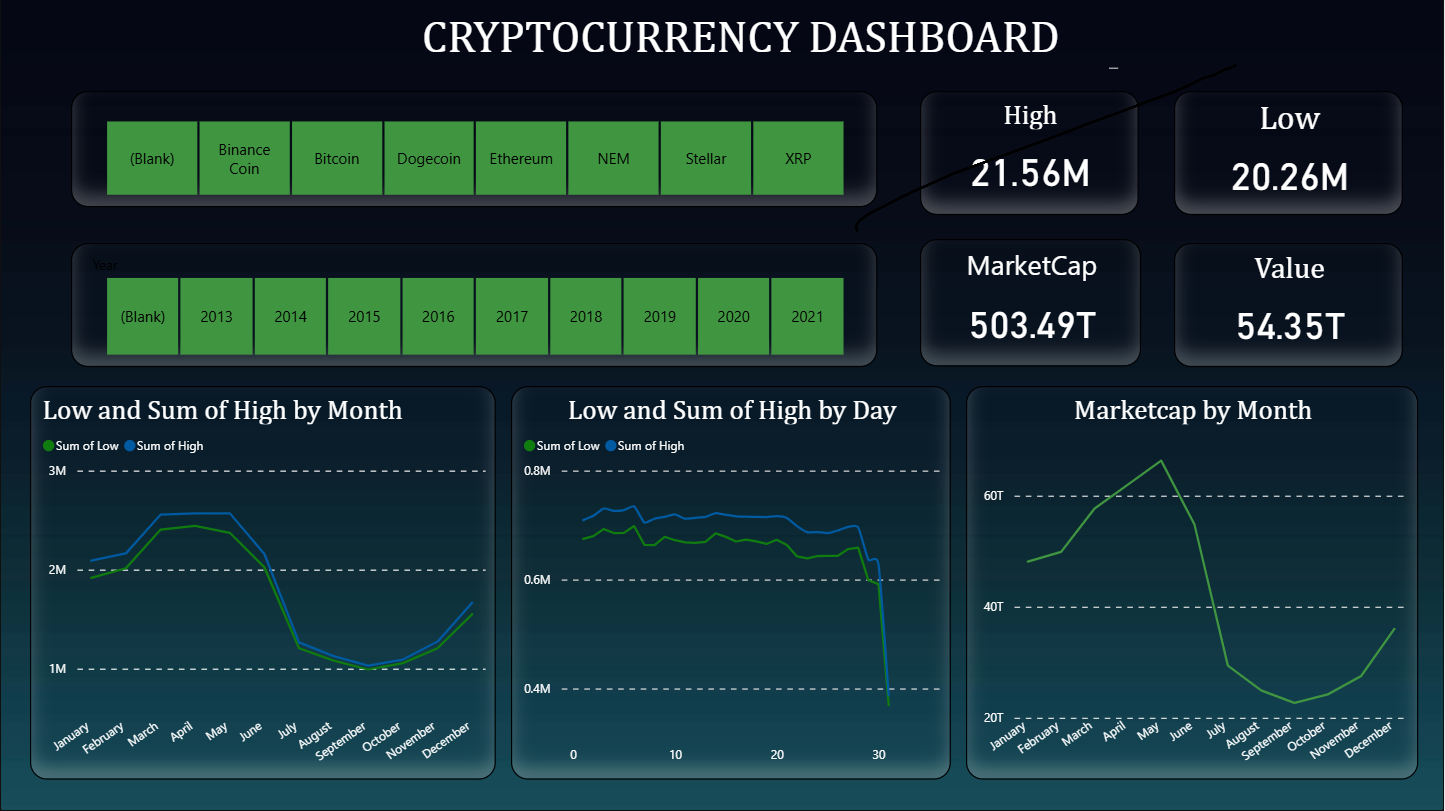

The page's visual inventory and layout, read from the dashboard file:
{"tool":"powerbi","page":{"name":"Page 1","canvas":[1280,720],"ordinal":0},"visuals":[{"type":"textbox","title":"CRYPTOCURRENCY DASHBOARD","box":[317.1,8.8,678.9,58.4],"z":0},{"type":"slicer","fields":{"Values":["CryptoData CSV.Name"]},"box":[63.2,81.7,714.9,103.1],"z":1000},{"type":"slicer","fields":{"Values":["CryptoData CSV.Date.Variation.Date Hierarchy.Year"]},"box":[63.2,215.9,714.9,109.9],"z":2000},{"type":"card","title":"High","fields":{"Values":["Sum(CryptoData_CSV.High)"]},"box":[816,81.7,193.6,109.9],"z":3000},{"type":"card","title":"Low","fields":{"Values":["Sum(CryptoData_CSV.Low)"]},"box":[1040.7,81.7,203.3,109.9],"z":4000},{"type":"card","title":"MarketCap","fields":{"Values":["Sum(CryptoData_CSV.Marketcap)"]},"box":[816,213,196.5,112.8],"z":5000},{"type":"card","title":"Value","fields":{"Values":["Sum(CryptoData_CSV.Volume)"]},"box":[1040.7,215.9,203.3,109.9],"z":6000},{"type":"lineChart","title":"Low and Sum of High by Month","fields":{"Category":["CryptoData CSV.Date.Variation.Date Hierarchy.Month"],"Y":["Sum(CryptoData CSV.Low)","Sum(CryptoData CSV.High)"]},"box":[26.3,343.3,413.4,349.2],"z":7000},{"type":"lineChart","title":"Low and Sum of High by Day","fields":{"Y":["Sum(CryptoData CSV.Low)","Sum(CryptoData CSV.High)"],"Category":["CryptoData CSV.Date.Variation.Date Hierarchy.Day"]},"box":[453.3,343.3,390,349.2],"z":8000},{"type":"lineChart","title":"Marketcap by Month","fields":{"Category":["CryptoData CSV.Date.Variation.Date Hierarchy.Month"],"Y":["Sum(CryptoData CSV.Marketcap)"]},"box":[856.9,343.3,400.7,349.2],"z":9000}]}

Visuals, with their boxes in screenshot pixels (x1, y1, x2, y2), scaled from the page's 1280x720 canvas onto the 1445x811 screenshot:
"CRYPTOCURRENCY DASHBOARD" textbox: crop(358, 10, 1124, 76)
slicer - CryptoData CSV.Name: crop(71, 92, 878, 208)
slicer - CryptoData CSV.Date.Variation.Date Hierarchy.Year: crop(71, 243, 878, 367)
"High" card: crop(921, 92, 1140, 216)
"Low" card: crop(1175, 92, 1404, 216)
"MarketCap" card: crop(921, 240, 1143, 367)
"Value" card: crop(1175, 243, 1404, 367)
"Low and Sum of High by Month" lineChart: crop(30, 387, 496, 780)
"Low and Sum of High by Day" lineChart: crop(512, 387, 952, 780)
"Marketcap by Month" lineChart: crop(967, 387, 1420, 780)
